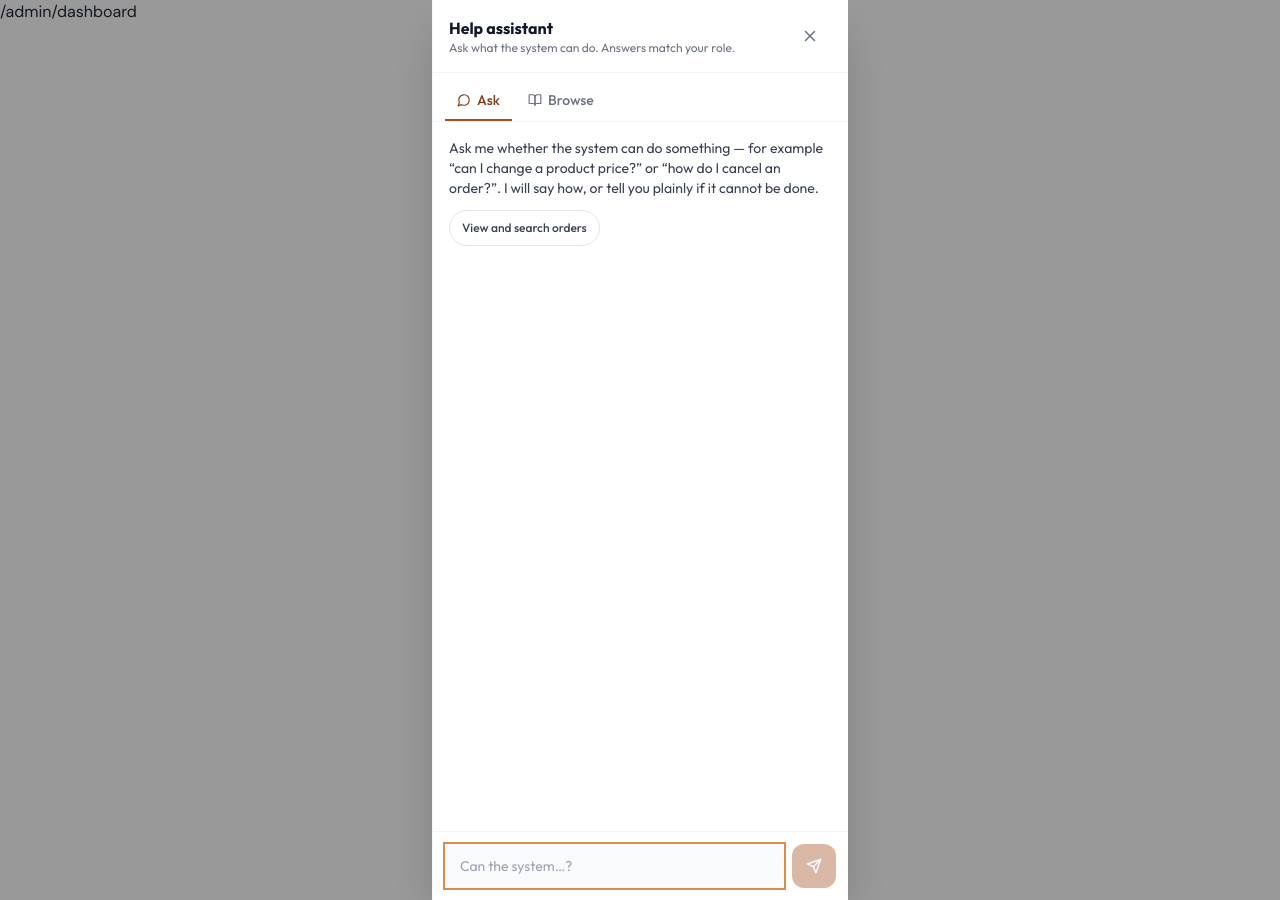
AssistantPanel › answers a typed question with numbered steps and a link that opens the page
In the field named "Your question": (614, 866) [445, 844, 784, 888], type "how do I approve an order?"
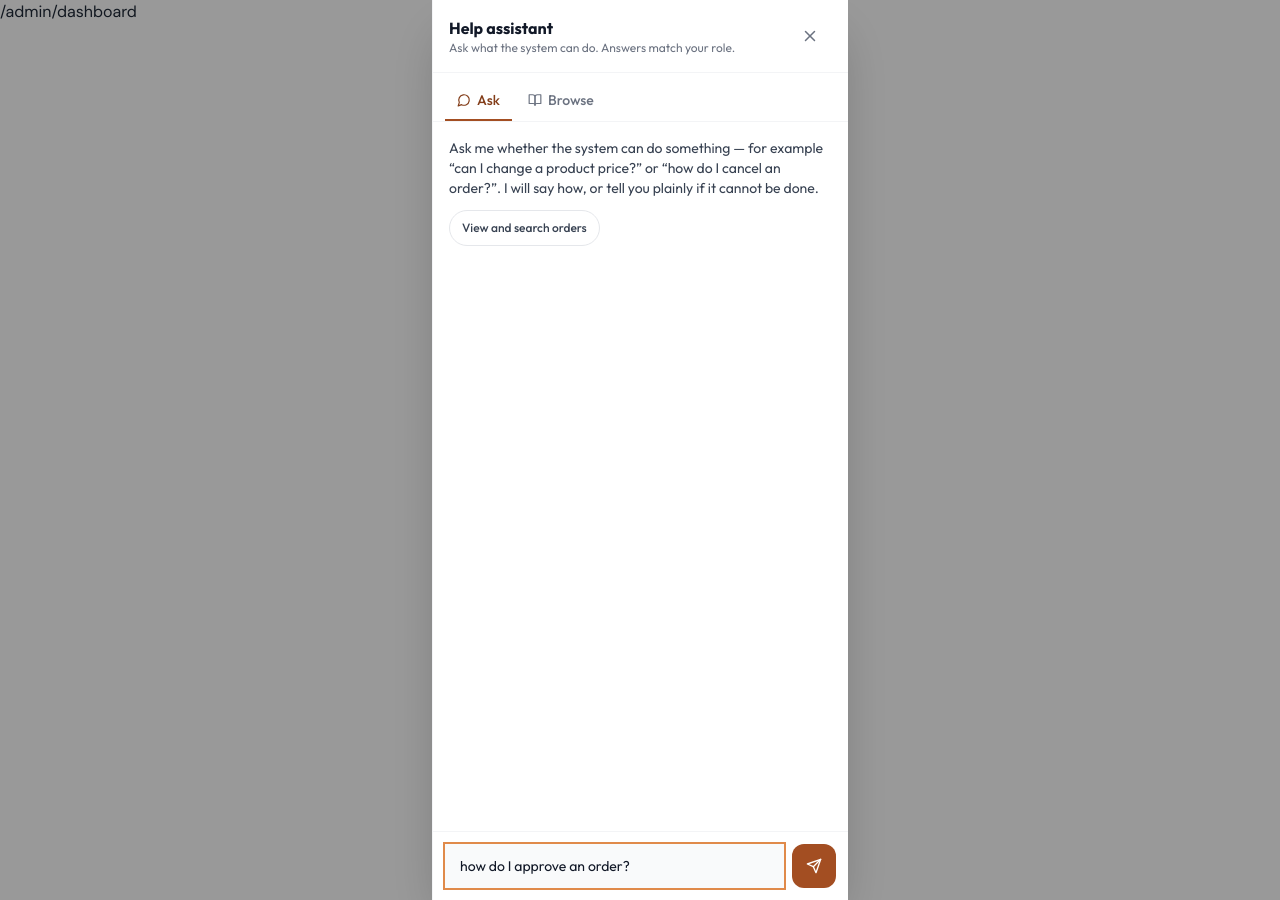
Click the button named "Send question": (814, 866) [792, 844, 836, 888]
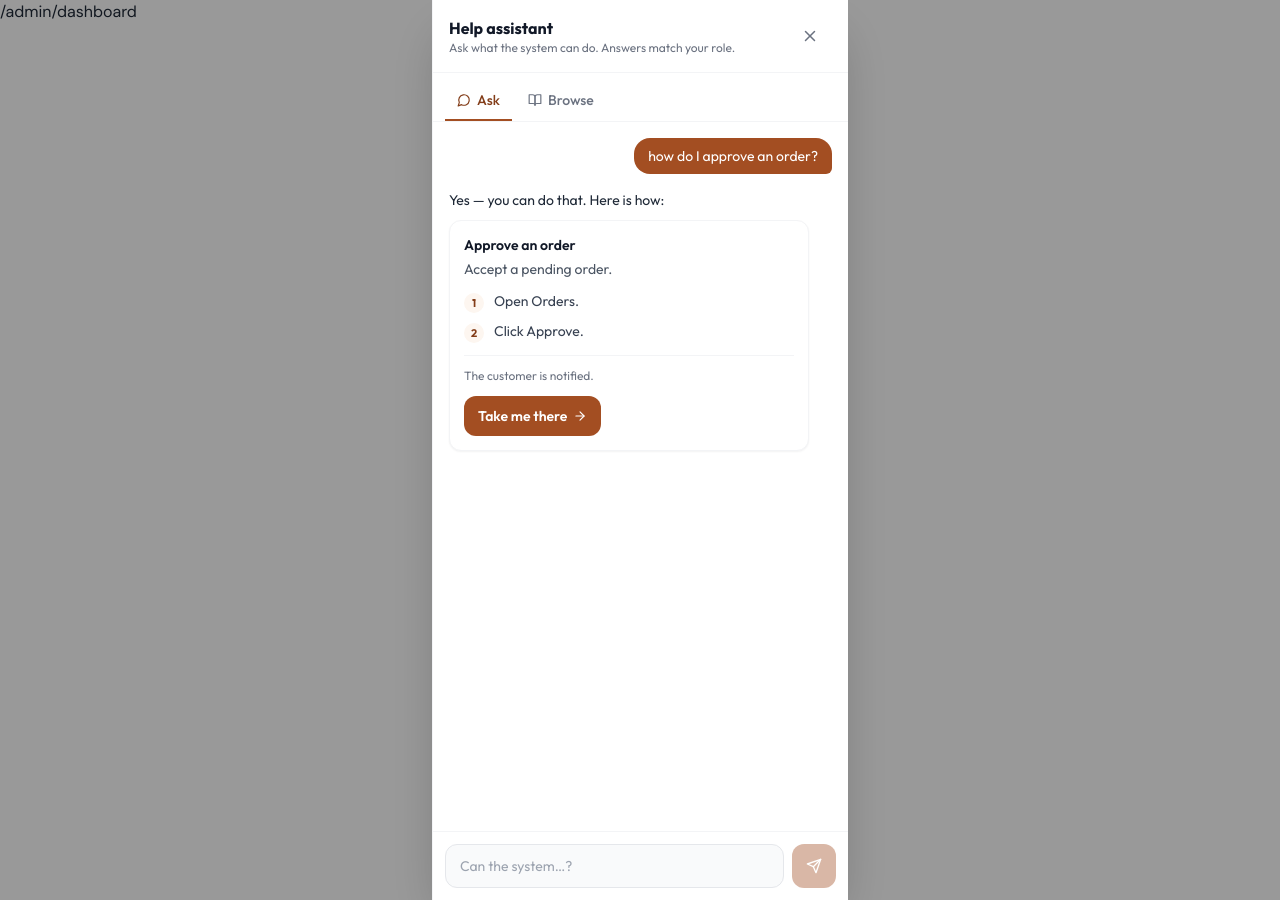
Check: the text "Yes — you can do that. Here is how:" is shown, box [449, 191, 664, 209]
Check: the text "Open Orders." is shown, box [494, 291, 579, 313]
Check: the list item "The customer is notified." is shown, box [464, 368, 594, 383]
Click the button "Take me there": (533, 416) [464, 396, 601, 436]
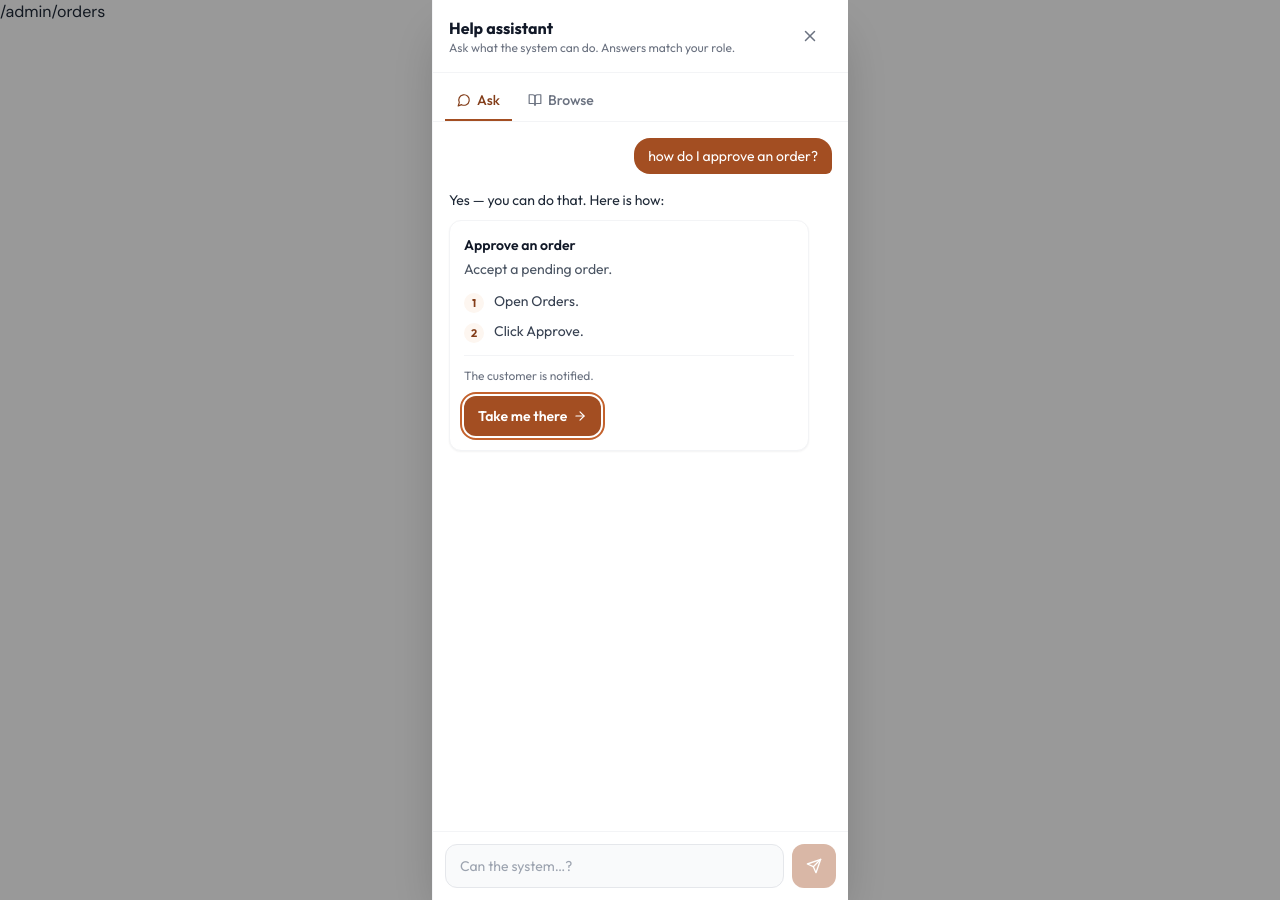
Check: the text with test id "where" reads "/admin/orders", box [0, 1, 105, 22]
